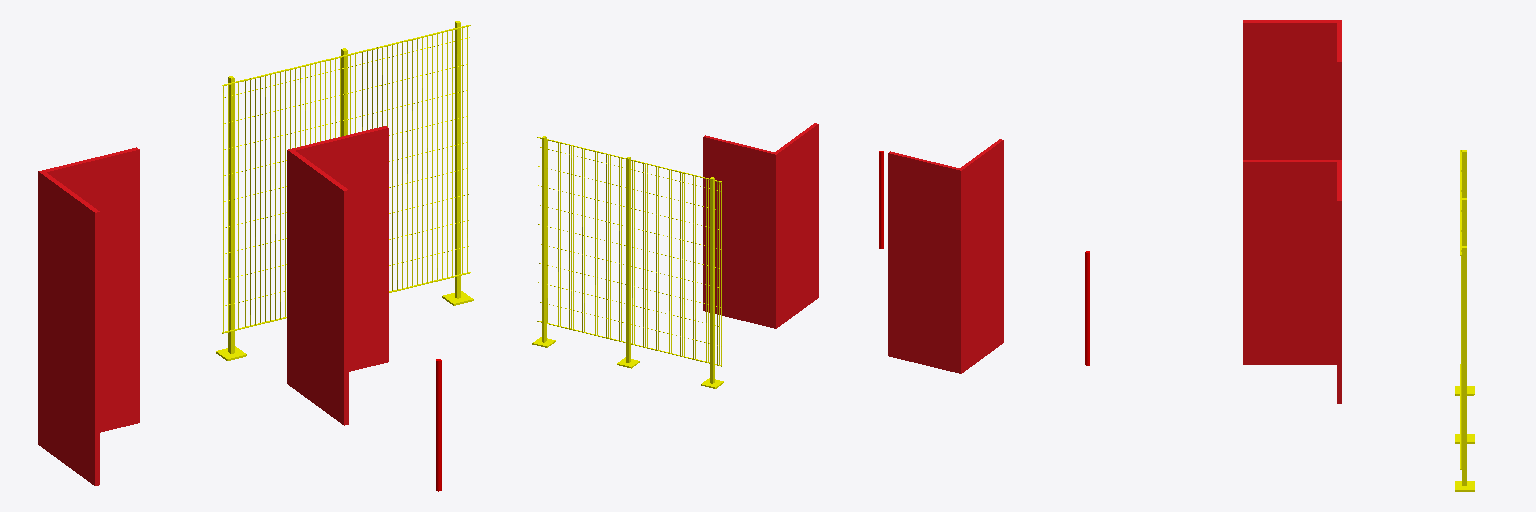
The robot description file, URDF, robot "Workstations":
<robot name="Workstations">

<material name="red">
    <color rgba="1 0 0 1"/>
  </material>

<link name="base_link">
<visual>
    <origin xyz="0 0 0.5" rpy="0 0 0" />
      <geometry>
        <cylinder length="1" radius="0.02"/>
      </geometry>
   <material name="red"/>
    </visual>
  </link>
 

<link name="PartitionWall_1800x790">
    <visual>
     <origin xyz="0 0 0" rpy="0 0 0" />
      <geometry>  
            <mesh filename="../12345/Fences/PartitionWall_1800x790.stl"/> 
      </geometry>  
     <material name="BIBA_red">
        <color rgba="0.929 0.109 0.141 1"/>
      </material>
    </visual>
  </link>

<link name="PartitionWall_2100x790">
    <visual>
     <origin xyz="0 0 0" rpy="0 0 0" />
      <geometry>  
            <mesh filename="../12345/Fences/PartitionWall_2100x790.stl"/> 
      </geometry>  
       <material name="BIBA_red">
        <color rgba="0.929 0.109 0.141 1"/>
      </material>

    </visual>
  </link>



<link name="SafetyFence_2000x2100">
    <visual>
     <origin xyz="0 0 0" rpy="0 0 0" />
      <geometry>  
            <mesh filename="../12345/Fences/SafetyFence_2000x2100.stl"/> 
      </geometry>  
           <material name="yellow">
        <color rgba="1 1 0 1"/>
      </material>
    </visual>
  </link>

 <joint name="PartitionWall1800TobaseLink" type="fixed"> 
    <parent link="base_link"/>
    <child link="PartitionWall_1800x790"/>
    <origin xyz="0 2 0"/>
  </joint>

 <joint name="PartitionWall2100TobaseLink" type="fixed"> 
    <parent link="base_link"/>
    <child link="PartitionWall_2100x790"/>
    <origin xyz="-2 2 0"/>
  </joint>


 <joint name="SafetyFenceTobaseLink" type="fixed"> 
    <parent link="base_link"/>
    <child link="SafetyFence_2000x2100"/>
    <origin xyz="0 3 0"/>
  </joint>


</robot>

--- What the picture shows (computed from the rendered views, not written in the file) ---
Views: 3 orthographic renders of the robot side by side, from view 1: azimuth 30°, elevation 25°; view 2: azimuth 150°, elevation 25°; view 3: azimuth 270°, elevation 25°.
Model Workstations with 4 links and 3 joints (3 fixed), rooted at base_link, posed all joints at 0.
Visible links, largest first — view 1: PartitionWall_2100x790, PartitionWall_1800x790, SafetyFence_2000x2100, base_link; view 2: PartitionWall_2100x790, PartitionWall_1800x790, SafetyFence_2000x2100; view 3: PartitionWall_1800x790, PartitionWall_2100x790, SafetyFence_2000x2100, base_link.
Boxes of the visible links, x1=… form: PartitionWall_2100x790: x1=38, y1=147, x2=139, y2=485; PartitionWall_1800x790: x1=287, y1=126, x2=388, y2=425; SafetyFence_2000x2100: x1=216, y1=21, x2=473, y2=360; base_link: x1=436, y1=359, x2=441, y2=491; PartitionWall_2100x790: x1=888, y1=139, x2=1003, y2=373; PartitionWall_1800x790: x1=703, y1=123, x2=818, y2=328; SafetyFence_2000x2100: x1=532, y1=136, x2=723, y2=388; PartitionWall_1800x790: x1=1243, y1=160, x2=1341, y2=403; PartitionWall_2100x790: x1=1243, y1=20, x2=1341, y2=159; SafetyFence_2000x2100: x1=1455, y1=150, x2=1474, y2=491; base_link: x1=1085, y1=251, x2=1089, y2=365.
Size in the robot's own frame: 4.03 by 3.13 by 2.3 metres.
Meshes: 3 distinct files referenced, 3 mesh visuals loaded (3 ASCII STL).
